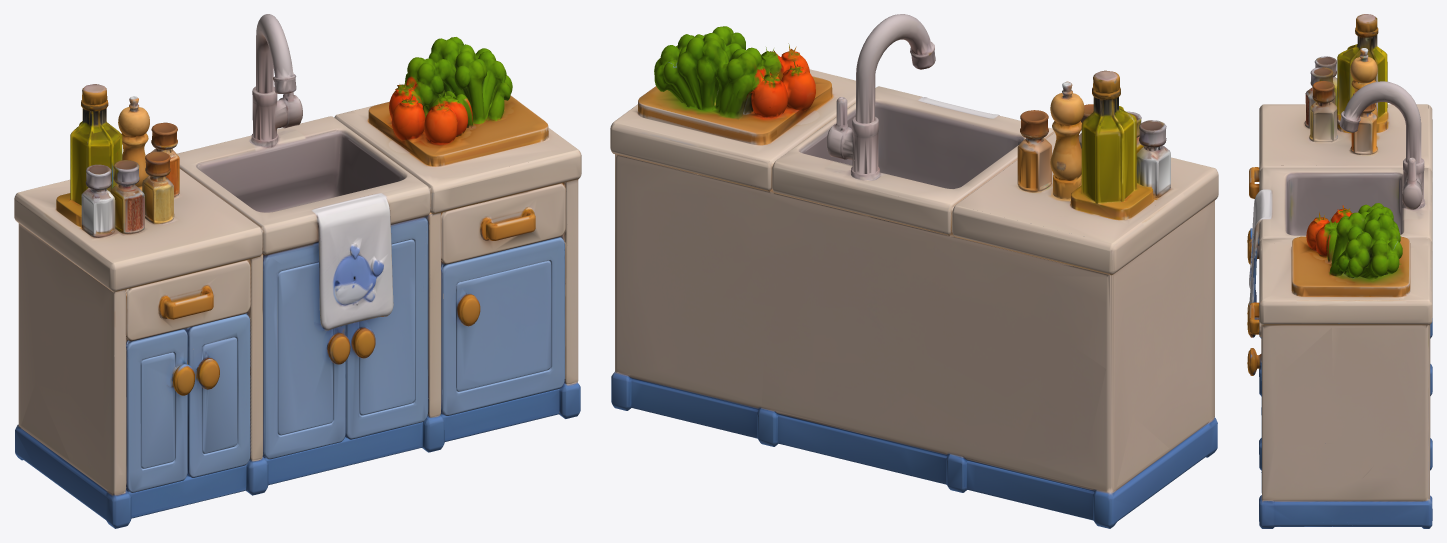
The model's file is sink-cabinet.glb.
The picture shows the model from 3 angles, left to right: view 1: azimuth 30°, elevation 25°; view 2: azimuth 150°, elevation 25°; view 3: azimuth 270°, elevation 25°; orthographic projection. The views are drawn at different scales.
Parts seen in each view (by area): view 1: 水槽柜静态总成; view 2: 水槽柜静态总成; view 3: 水槽柜静态总成.
Part boxes in pixels (left/top/right/bottom): 水槽柜静态总成: left=14, top=14, right=581, bottom=528; 水槽柜静态总成: left=610, top=14, right=1218, bottom=528; 水槽柜静态总成: left=1247, top=14, right=1432, bottom=528.
Bounding box in the file's own units: 1.65 × 1.35 × 0.6502.
Materials: 1 (1 with a texture image).
